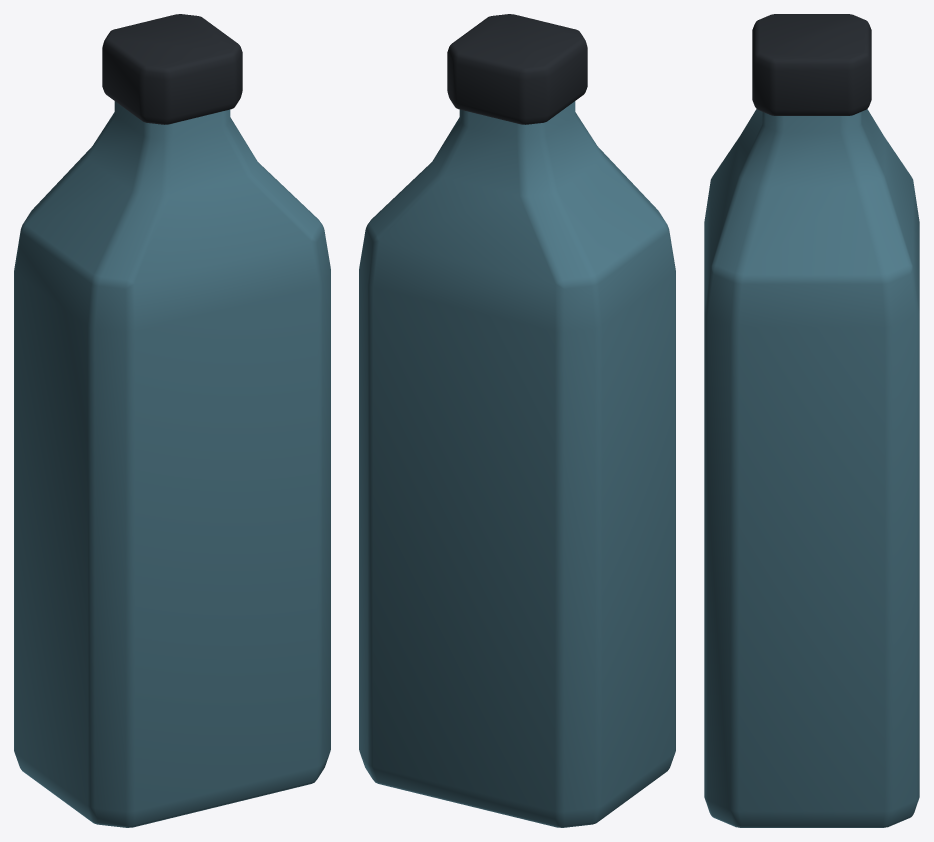
The model's file is Bottle_Whiskey.fbx.
3 renders of one model, left to right at view 1: azimuth 30°, elevation 25°; view 2: azimuth 150°, elevation 25°; view 3: azimuth 270°, elevation 25°, orthographic.
Parts seen in each view (by area): view 1: Whiskey_Glass, Whiskey_Cap; view 2: Whiskey_Glass, Whiskey_Cap; view 3: Whiskey_Glass, Whiskey_Cap.
Part boxes in pixels (x1,y1,x2,y2): Whiskey_Glass: [14, 101, 330, 827]; Whiskey_Cap: [102, 14, 242, 124]; Whiskey_Glass: [359, 101, 675, 827]; Whiskey_Cap: [447, 14, 587, 124]; Whiskey_Glass: [704, 109, 919, 827]; Whiskey_Cap: [752, 14, 871, 115].
Size of the model in its own units: 0.085 by 0.245 by 0.065.
